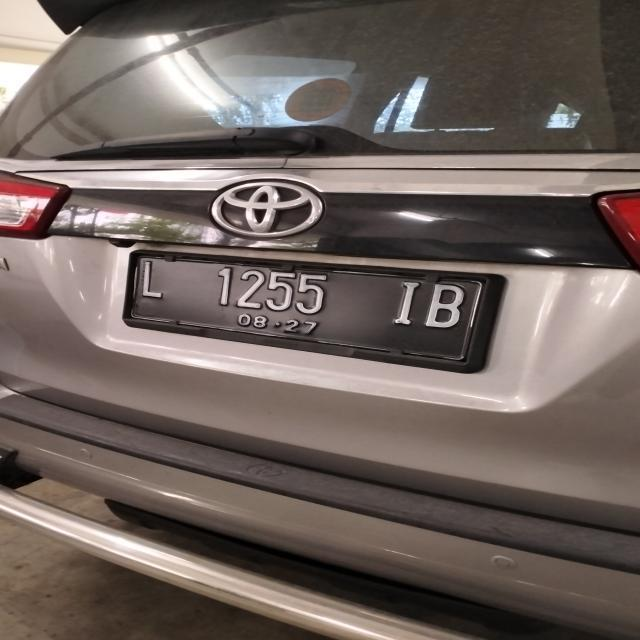1: (214, 266, 233, 312)
2: (238, 268, 266, 310)
5: (297, 272, 328, 320)
B: (425, 282, 464, 332)
I: (393, 276, 421, 326)
L: (132, 258, 164, 298)
N: (268, 270, 297, 311)
